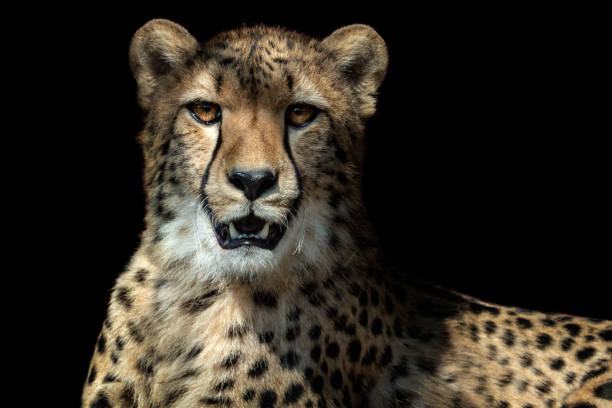cheetah: (123, 17, 414, 294)
